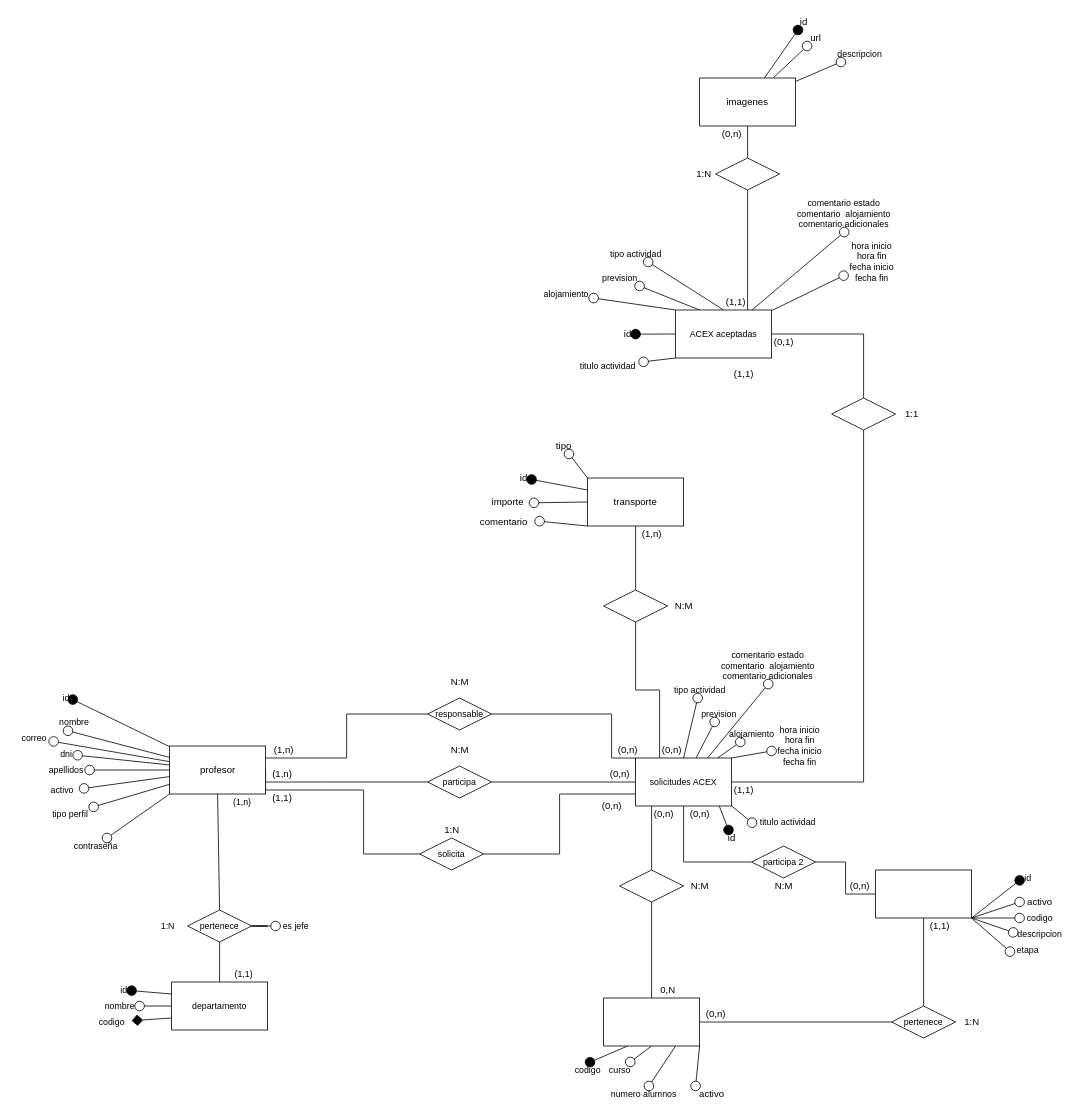
The diagram is 1082 pixels wide and 1115 high, and some of its shapes have lost their labels. Each missing label, with the centre of its shape:
copia: the point at 863,413
cursos: the point at 923,893
grupo: the point at 651,1021
participa 1: the point at 651,885
realizadas: the point at 747,173
utiliza: the point at 635,605
